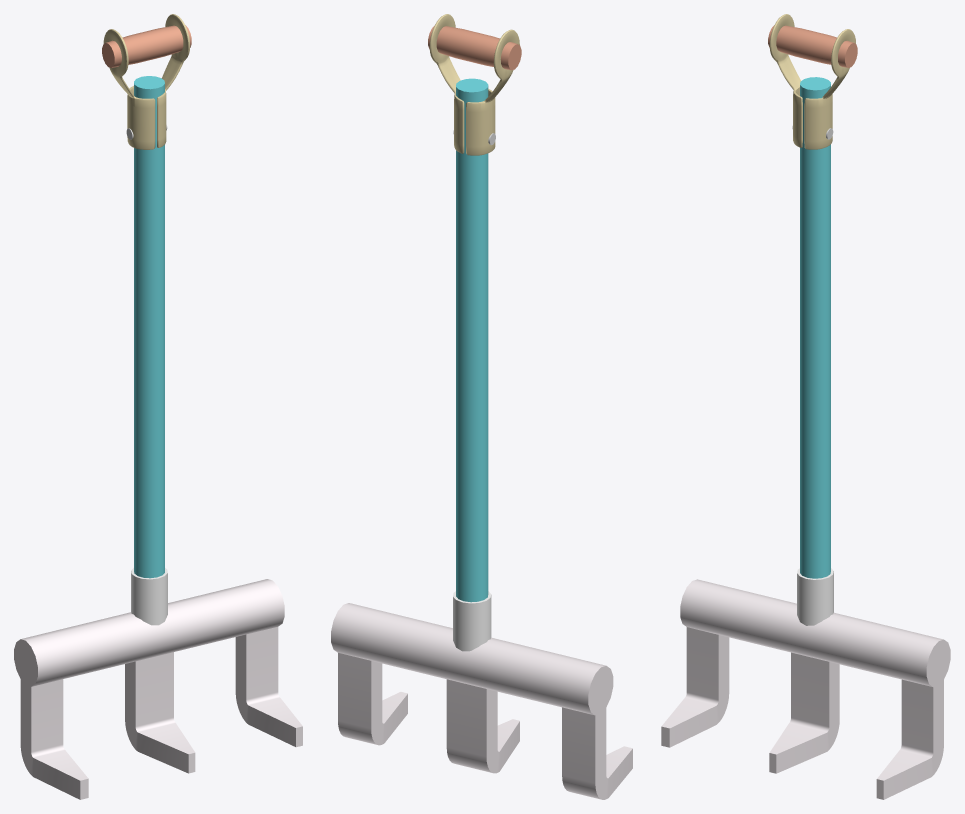
The model's file is penggaruk tanaman besar.fbx.
3 renders of one model, left to right at view 1: azimuth 30°, elevation 25°; view 2: azimuth 150°, elevation 25°; view 3: azimuth 330°, elevation 25°, orthographic. The views are drawn at different scales.
Parts seen in each view (by area): view 1: Cylinder.092, Cylinder.090, Circle.025, Cylinder.089, Cylinder.091; view 2: Cylinder.092, Cylinder.090, Circle.025, Cylinder.089, Cylinder.091; view 3: Cylinder.092, Cylinder.090, Circle.025, Cylinder.089, Cylinder.091.
Boxes of the visible parts, x1,y1,x2,y2 form: Cylinder.092: (14, 579, 302, 799); Cylinder.090: (134, 76, 164, 578); Circle.025: (103, 14, 190, 149); Cylinder.089: (102, 25, 191, 67); Cylinder.091: (131, 567, 167, 625); Cylinder.092: (331, 603, 632, 799); Cylinder.090: (456, 78, 488, 602); Circle.025: (429, 14, 519, 155); Cylinder.089: (428, 26, 521, 70); Cylinder.091: (453, 591, 491, 651); Cylinder.092: (661, 579, 950, 799); Cylinder.090: (800, 77, 830, 578); Circle.025: (769, 14, 855, 149); Cylinder.089: (768, 25, 857, 67); Cylinder.091: (797, 568, 833, 625).
Size of the model in its own units: 325 by 906 by 125.
